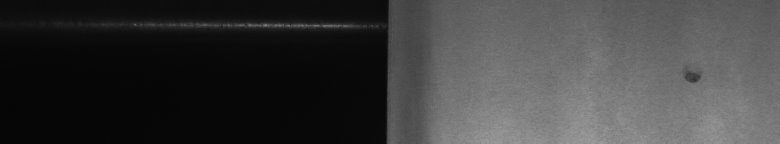fi: (680, 65, 704, 92)
